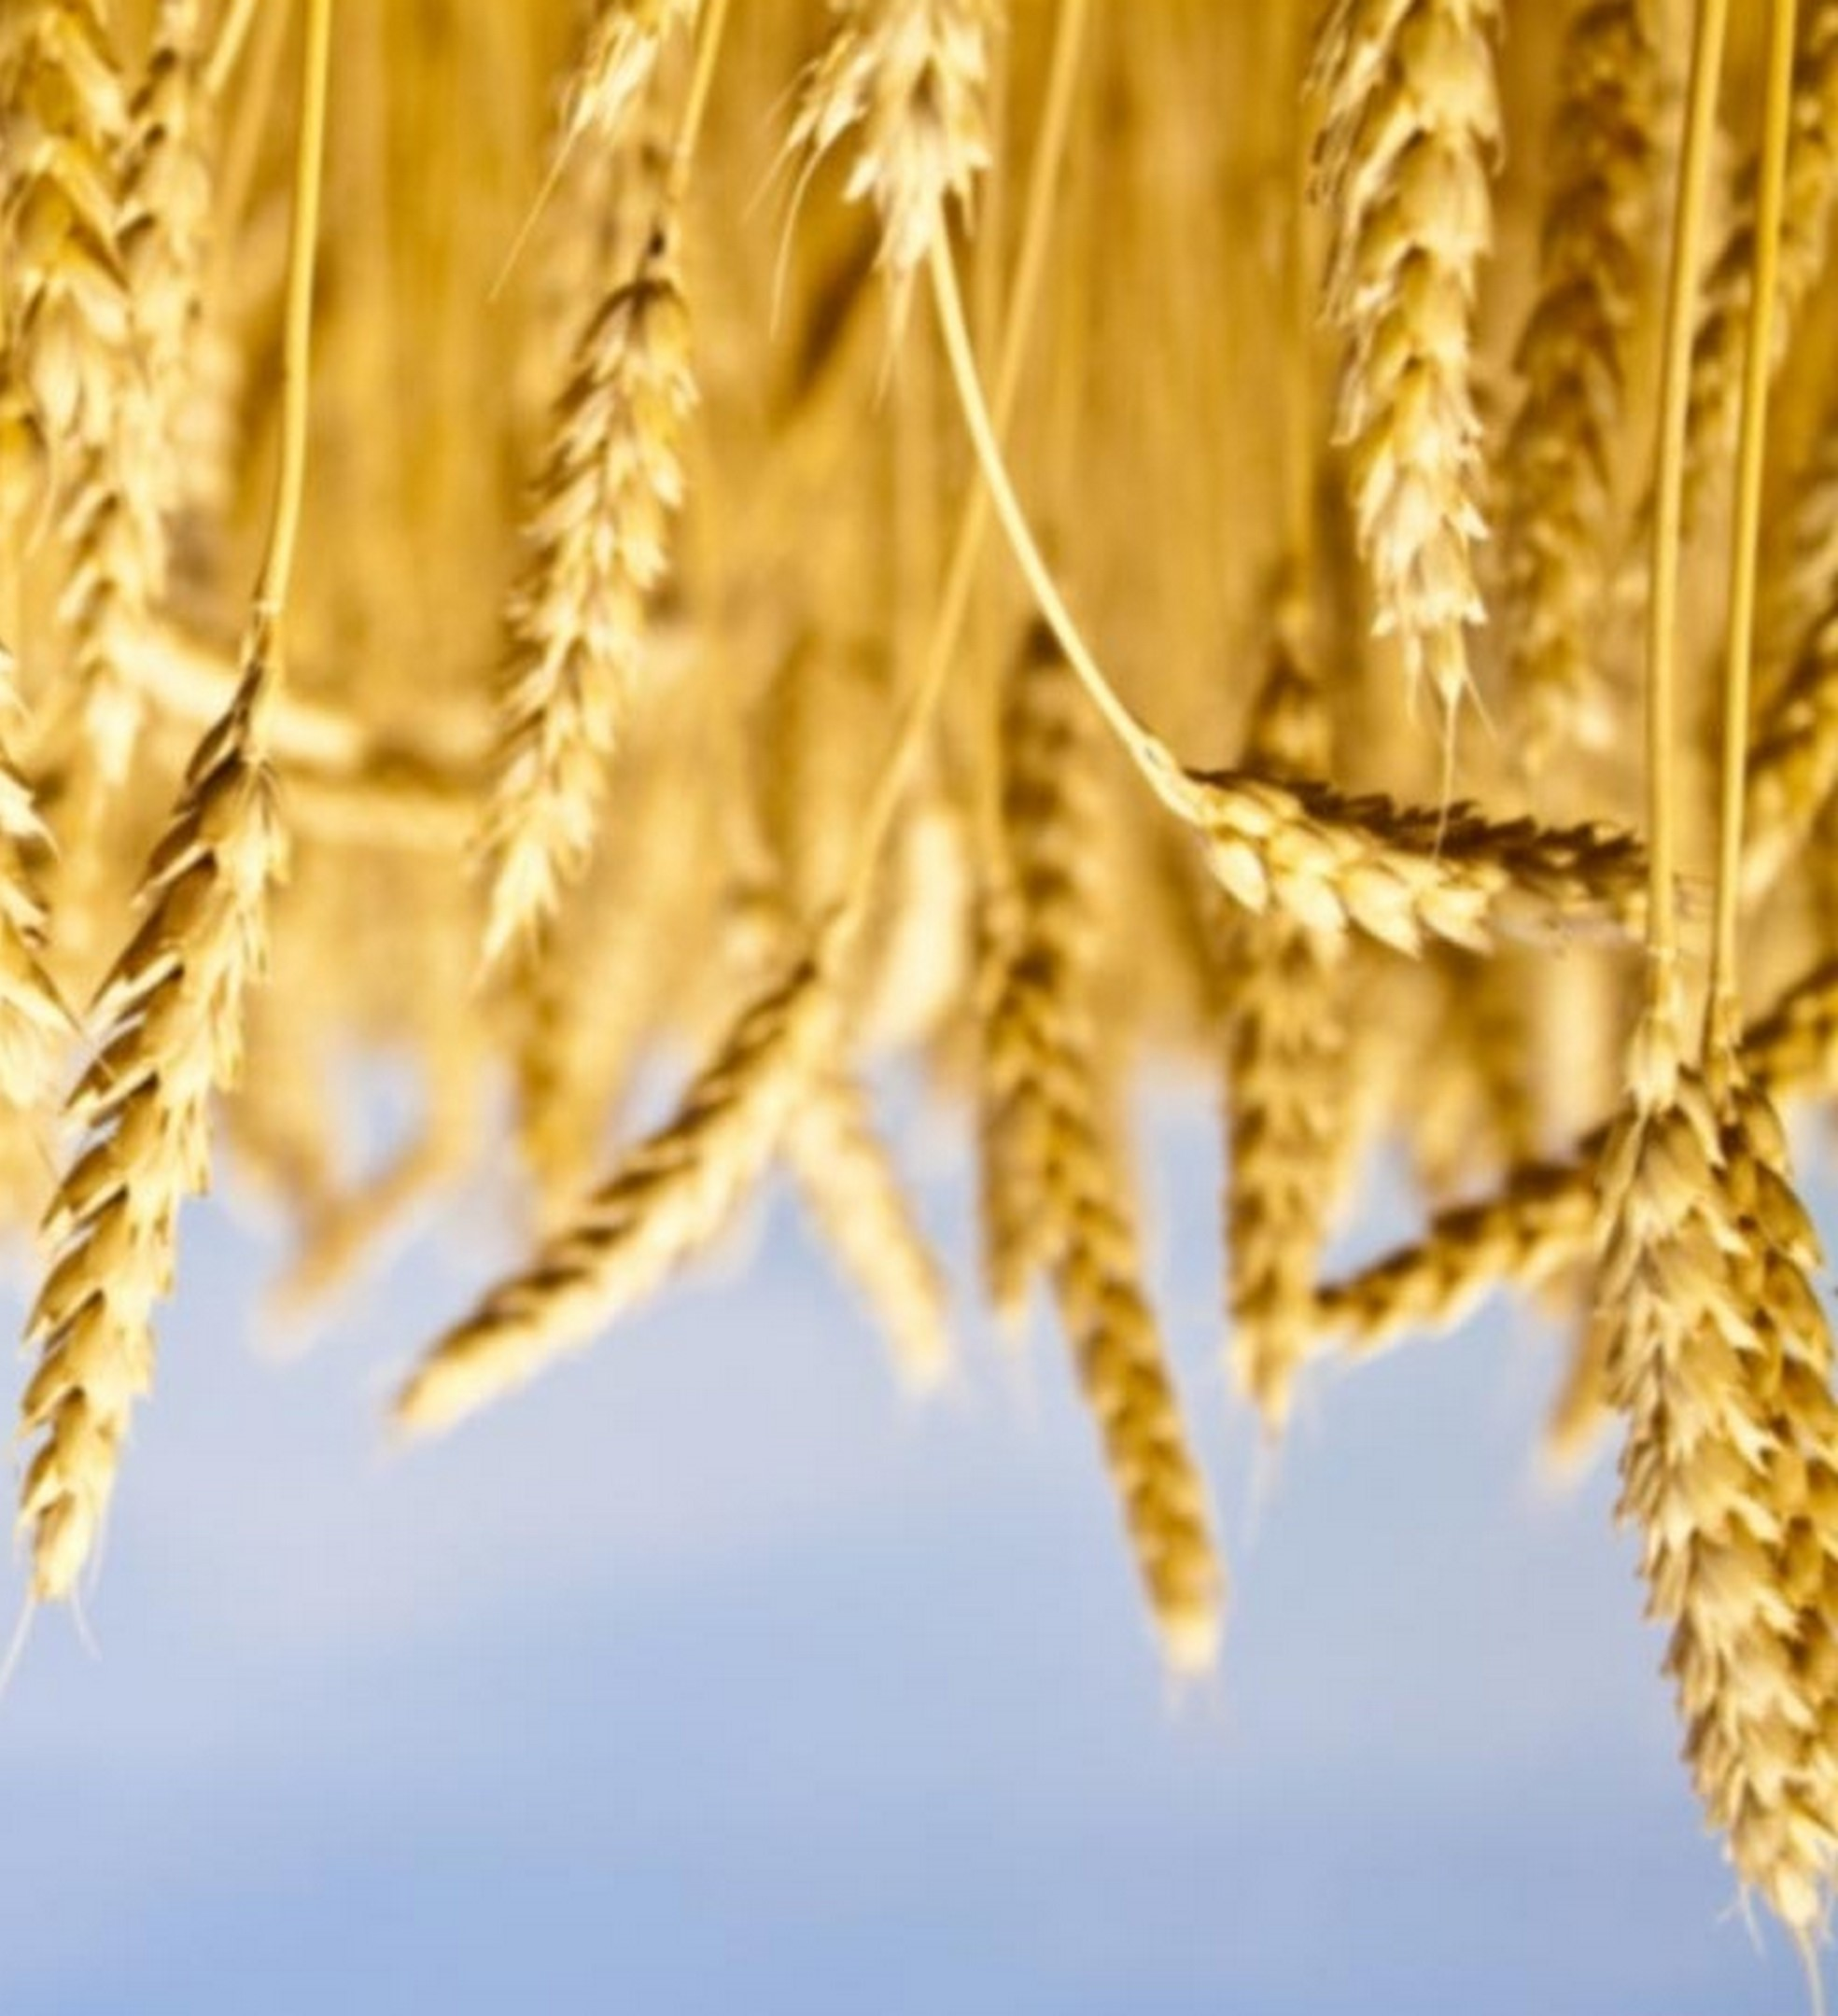Healthy Wheat: (12, 715, 337, 1621), (1601, 1064, 1838, 1919)
